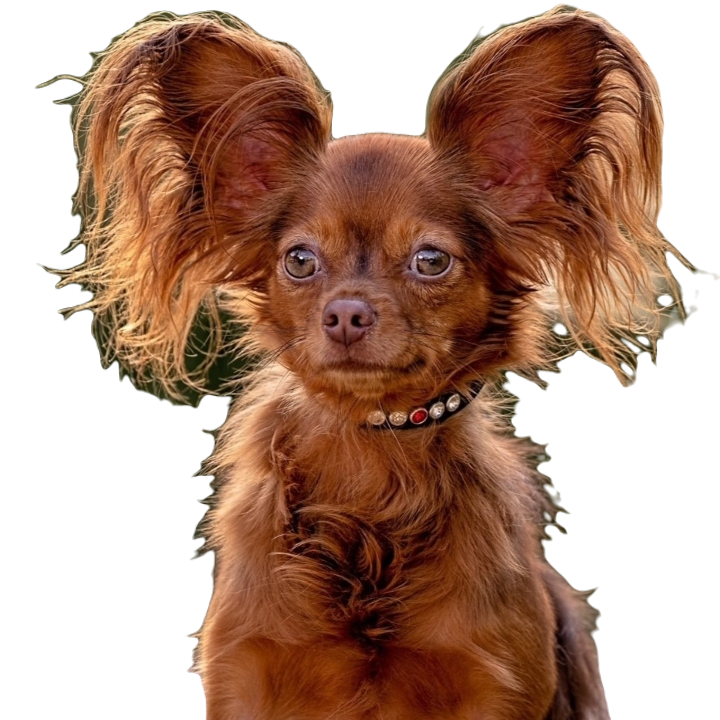Dog: (41, 1, 698, 719)
